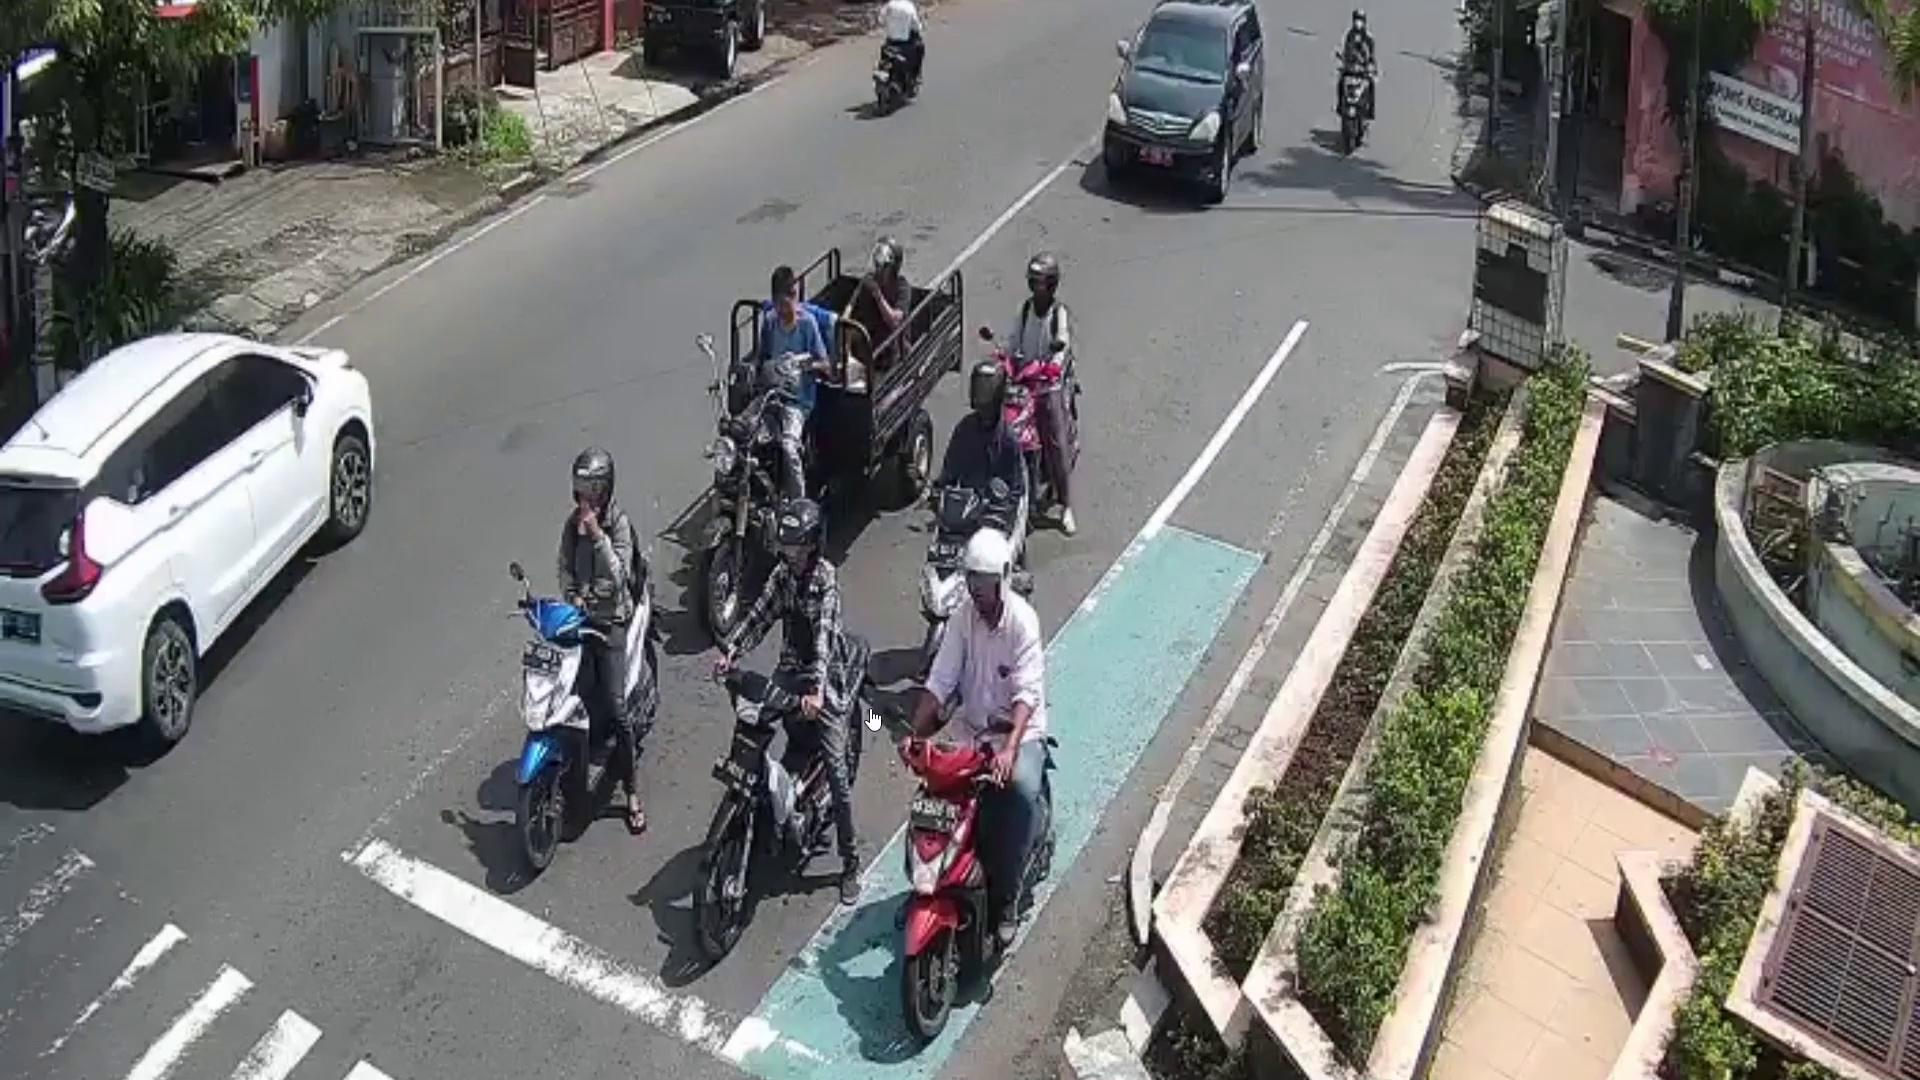car: (0, 330, 375, 746), (1098, 0, 1263, 207)
motorbike: (691, 632, 872, 949), (901, 727, 1059, 1040), (517, 542, 661, 884), (700, 405, 812, 649), (1332, 61, 1378, 160)
